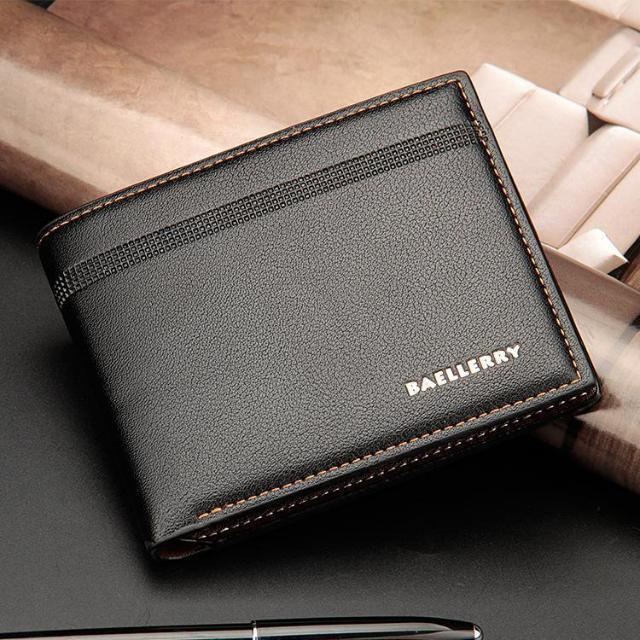wallet: (37, 69, 601, 576)
